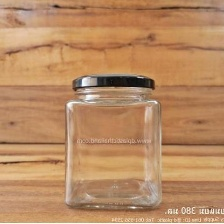glass: (54, 70, 168, 215)
